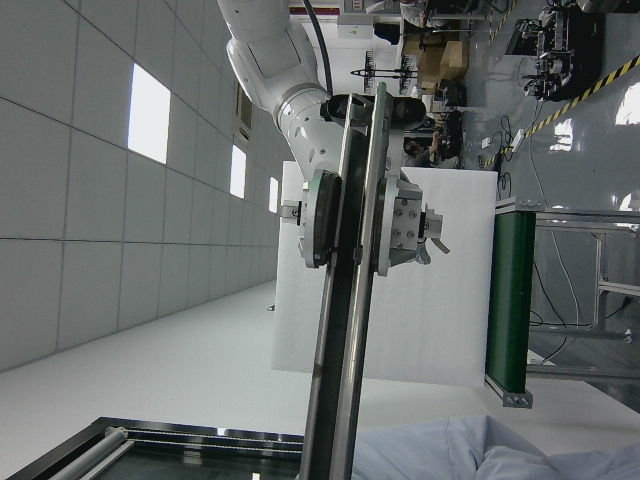left: (303, 78, 396, 479)
